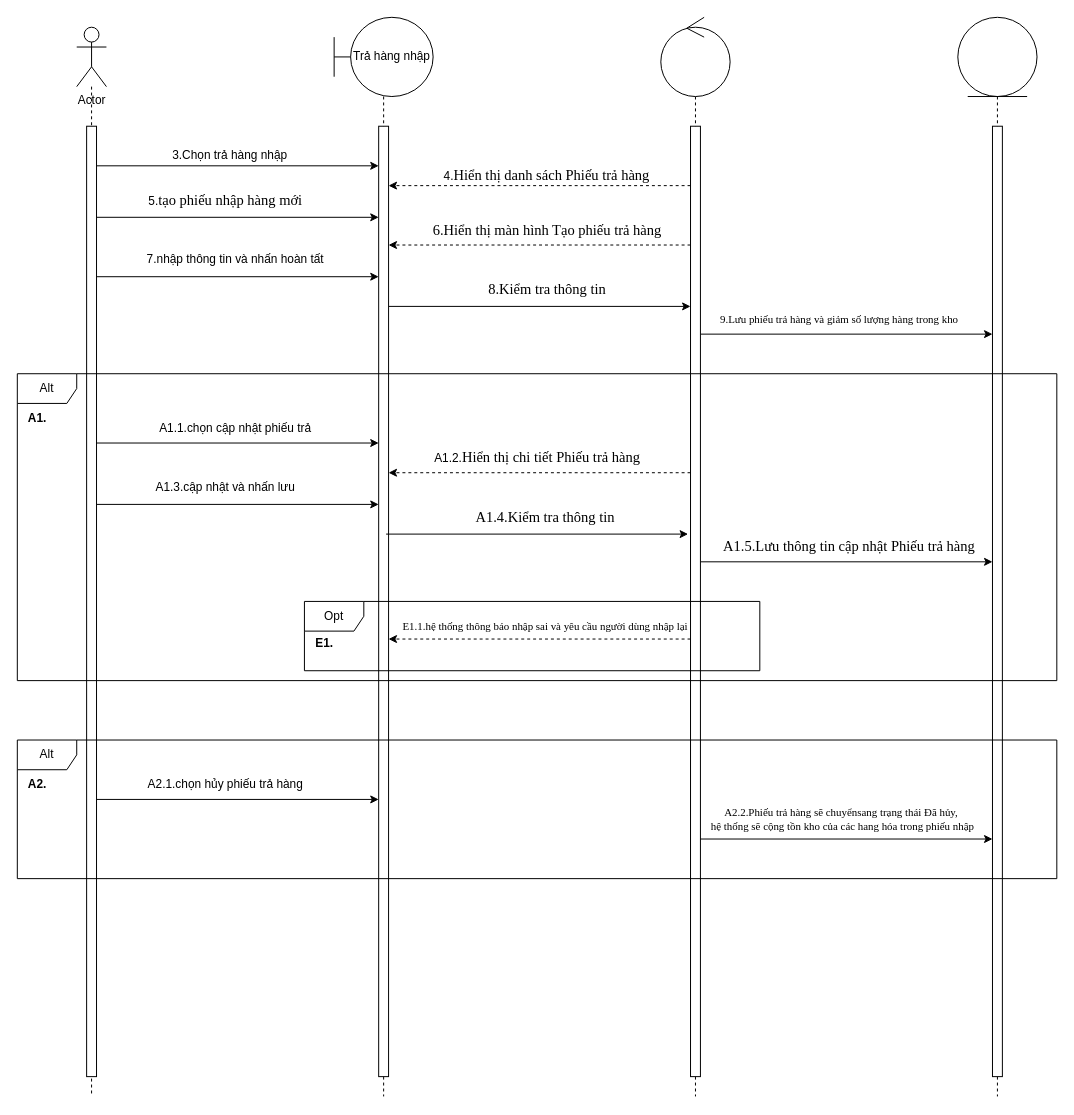
The diagram is 1074 pixels wide and 1115 high, and some of its shapes have lost their labels. The centre of each missing label's shape, as x and y in pixels:
"database" goes at (x=997, y=56).
"xử lý" goes at (x=695, y=56).
